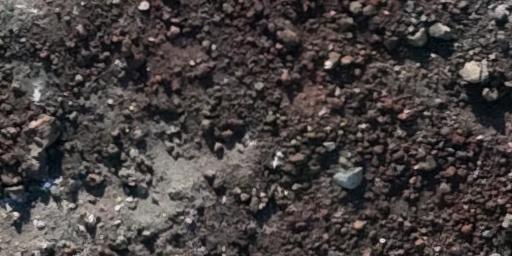skua: (74, 206, 105, 242)
